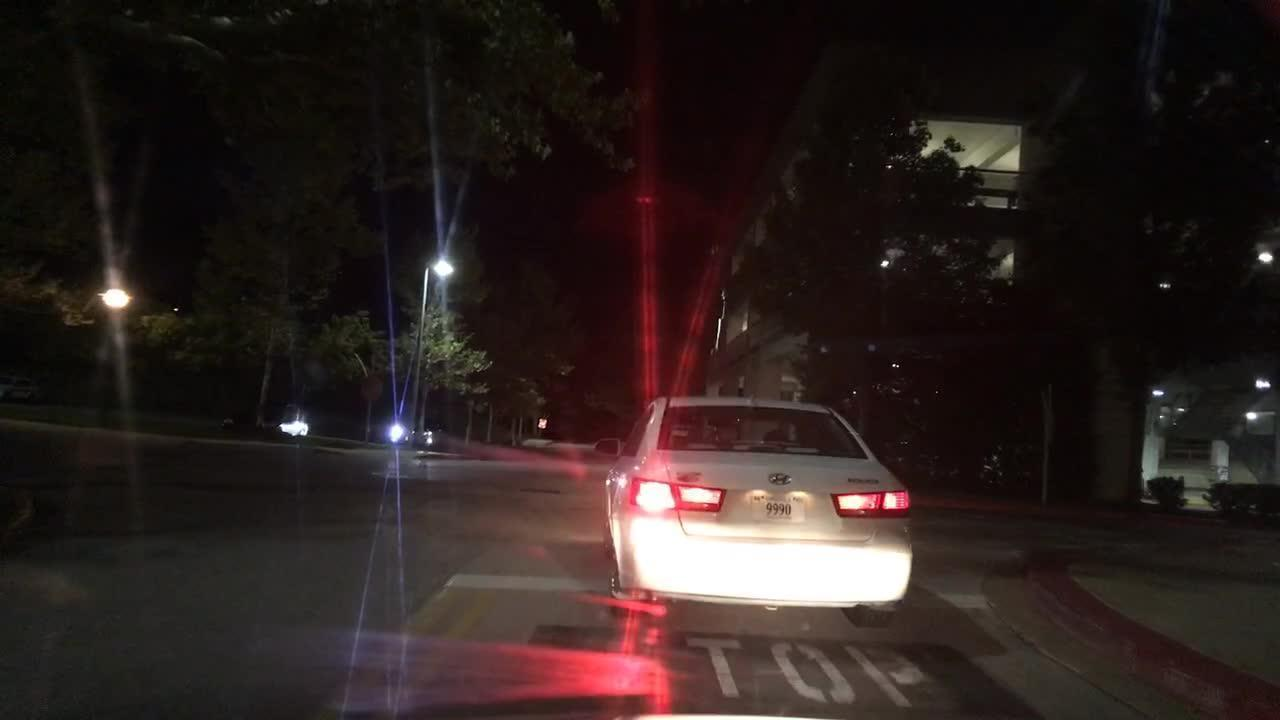Hyundai: (765, 467, 795, 488)
